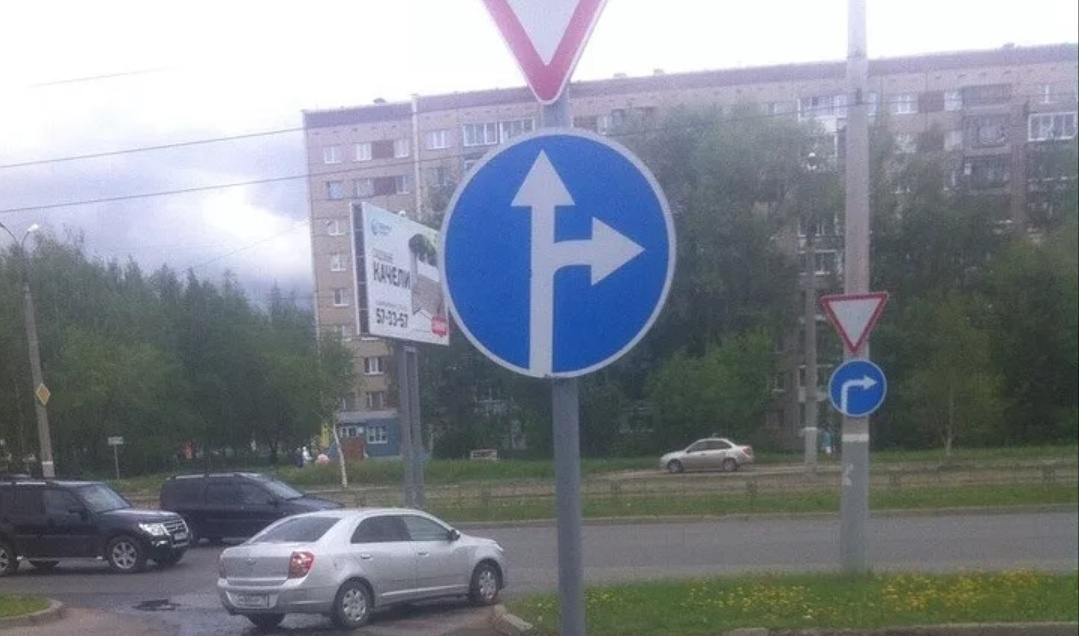ileri_veya_saga: (439, 128, 679, 384)
ileriden_saga: (825, 359, 894, 417)
otomobil: (210, 492, 513, 624), (0, 458, 199, 608), (165, 459, 327, 539), (657, 425, 742, 472)
